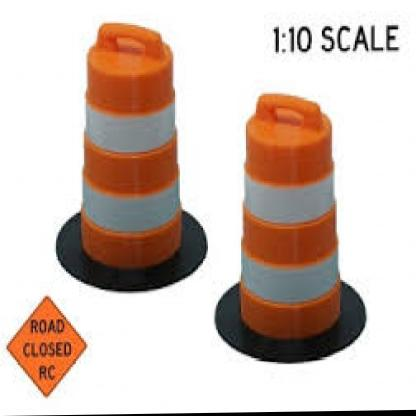obstacle: (83, 25, 188, 278), (241, 100, 347, 340)
